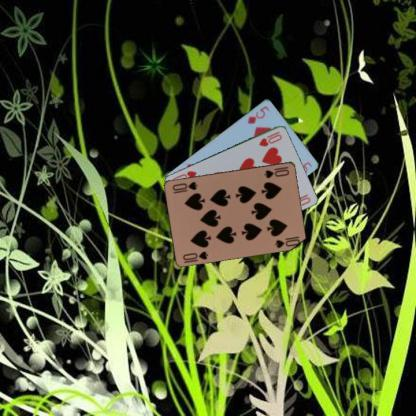10h: (257, 129, 283, 148)
10s: (180, 249, 210, 261), (262, 167, 290, 179)
5d: (245, 103, 271, 125)
